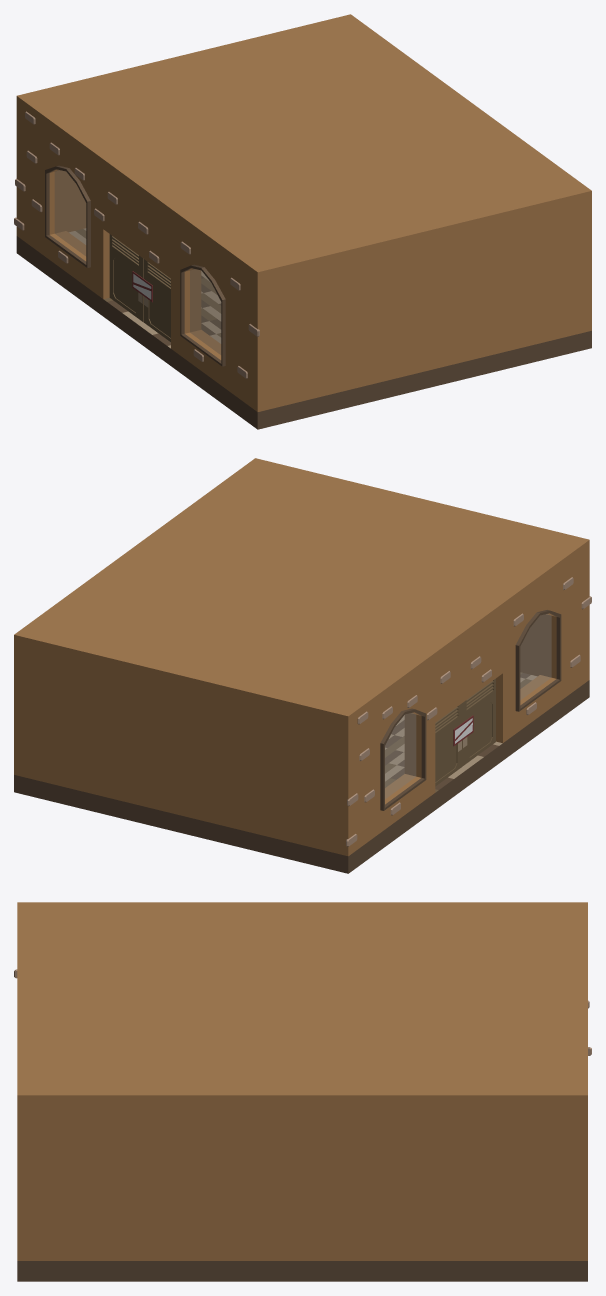
The model's file is Tienda Cerrada 3.fbx.
3 renders of one model, top to bottom at view 1: azimuth 30°, elevation 25°; view 2: azimuth 150°, elevation 25°; view 3: azimuth 270°, elevation 25°, orthographic. The views are drawn at different scales.
Visible parts, largest first — view 1: Techo_14, Pared_1x10x16, Fachada_14, Piso_14, Esquina_1x10x46, Esquina_1x10x1, Esquina_1x10x45, Puerta_TC_3, Vidrio_TC_9, Vidrio_TC_8, Puerta_TC_4, Pared2_1x10x16; view 2: Techo_14, Pared2_1x10x16, Fachada_14, Piso_14, Esquina_1x10x45, Esquina_1x10x8, Esquina_1x10x46, Vidrio_TC_9, Vidrio_TC_8, Puerta_TC_4, Puerta_TC_3, Pared_1x10x16; view 3: Techo_14, Pared_21x10x1, Piso_14, Esquina_1x10x1, Esquina_1x10x8.
Boxes of the visible parts, left/top/right/bottom form: Techo_14: left=16, top=14, right=591, bottom=289; Pared_1x10x16: left=291, top=216, right=558, bottom=403; Fachada_14: left=36, top=128, right=238, bottom=397; Piso_14: left=16, top=228, right=591, bottom=429; Esquina_1x10x46: left=238, top=276, right=291, bottom=411; Esquina_1x10x1: left=558, top=208, right=591, bottom=338; Esquina_1x10x45: left=16, top=113, right=35, bottom=249; Puerta_TC_3: left=109, top=234, right=143, bottom=321; Vidrio_TC_9: left=190, top=269, right=220, bottom=354; Vidrio_TC_8: left=55, top=170, right=85, bottom=255; Puerta_TC_4: left=143, top=259, right=170, bottom=341; Pared2_1x10x16: left=66, top=172, right=86, bottom=231; Techo_14: left=14, top=458, right=589, bottom=733; Pared2_1x10x16: left=47, top=660, right=314, bottom=847; Fachada_14: left=367, top=572, right=570, bottom=841; Piso_14: left=14, top=672, right=589, bottom=873; Esquina_1x10x45: left=315, top=720, right=367, bottom=856; Esquina_1x10x8: left=14, top=652, right=47, bottom=782; Esquina_1x10x46: left=570, top=557, right=589, bottom=693; Vidrio_TC_9: left=520, top=614, right=551, bottom=699; Vidrio_TC_8: left=385, top=713, right=415, bottom=798; Puerta_TC_4: left=462, top=678, right=495, bottom=765; Puerta_TC_3: left=435, top=703, right=462, bottom=786; Pared_1x10x16: left=520, top=616, right=539, bottom=676; Techo_14: left=17, top=902, right=587, bottom=1115; Pared_21x10x1: left=63, top=1116, right=542, bottom=1260; Piso_14: left=17, top=1261, right=587, bottom=1281; Esquina_1x10x1: left=17, top=1116, right=62, bottom=1260; Esquina_1x10x8: left=542, top=1116, right=587, bottom=1260.
Bounding box in the file's own units: 20.21 × 9 × 25.32.
